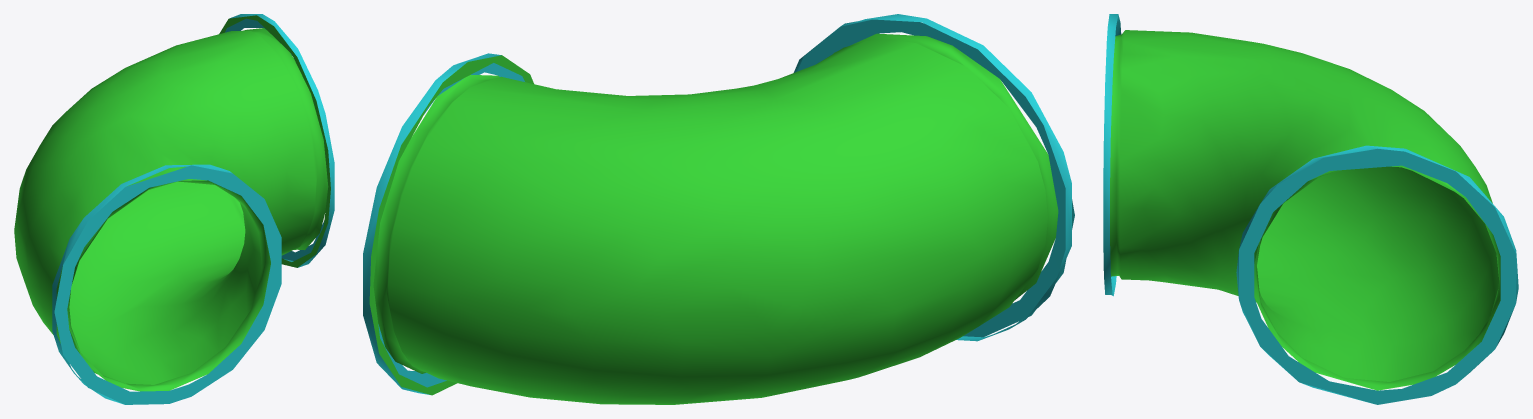
Rendered from tubo3.1_LOD1.fbx.
The picture shows the model from 3 angles, left to right: view 1: azimuth 30°, elevation 25°; view 2: azimuth 150°, elevation 25°; view 3: azimuth 270°, elevation 25°; orthographic projection. The views are drawn at different scales.
Parts seen in each view (by area): view 1: tubo3_1; view 2: tubo3_1; view 3: tubo3_1.
Part boxes in pixels (box(x1,y1,x2,y2)): tubo3_1: box(14, 14, 334, 404); tubo3_1: box(363, 14, 1074, 404); tubo3_1: box(1103, 14, 1518, 404).
Bounding box in the file's own units: 648 × 423 × 621.
